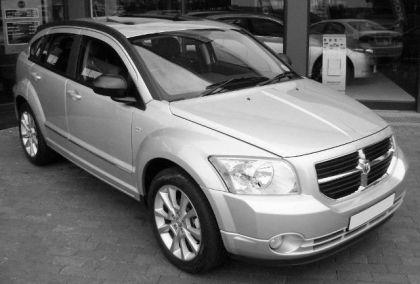car: (20, 21, 409, 278)
